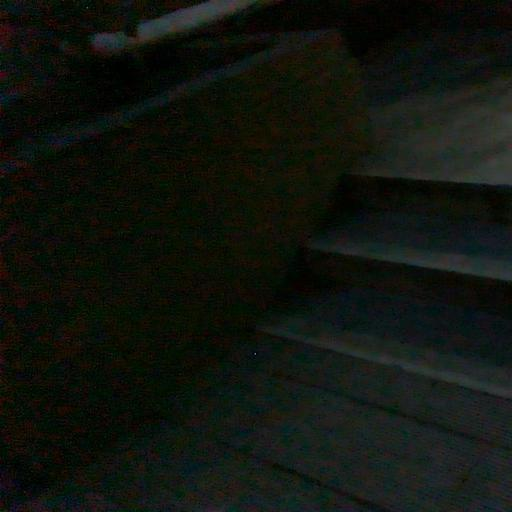stairs: (82, 79, 511, 511)
